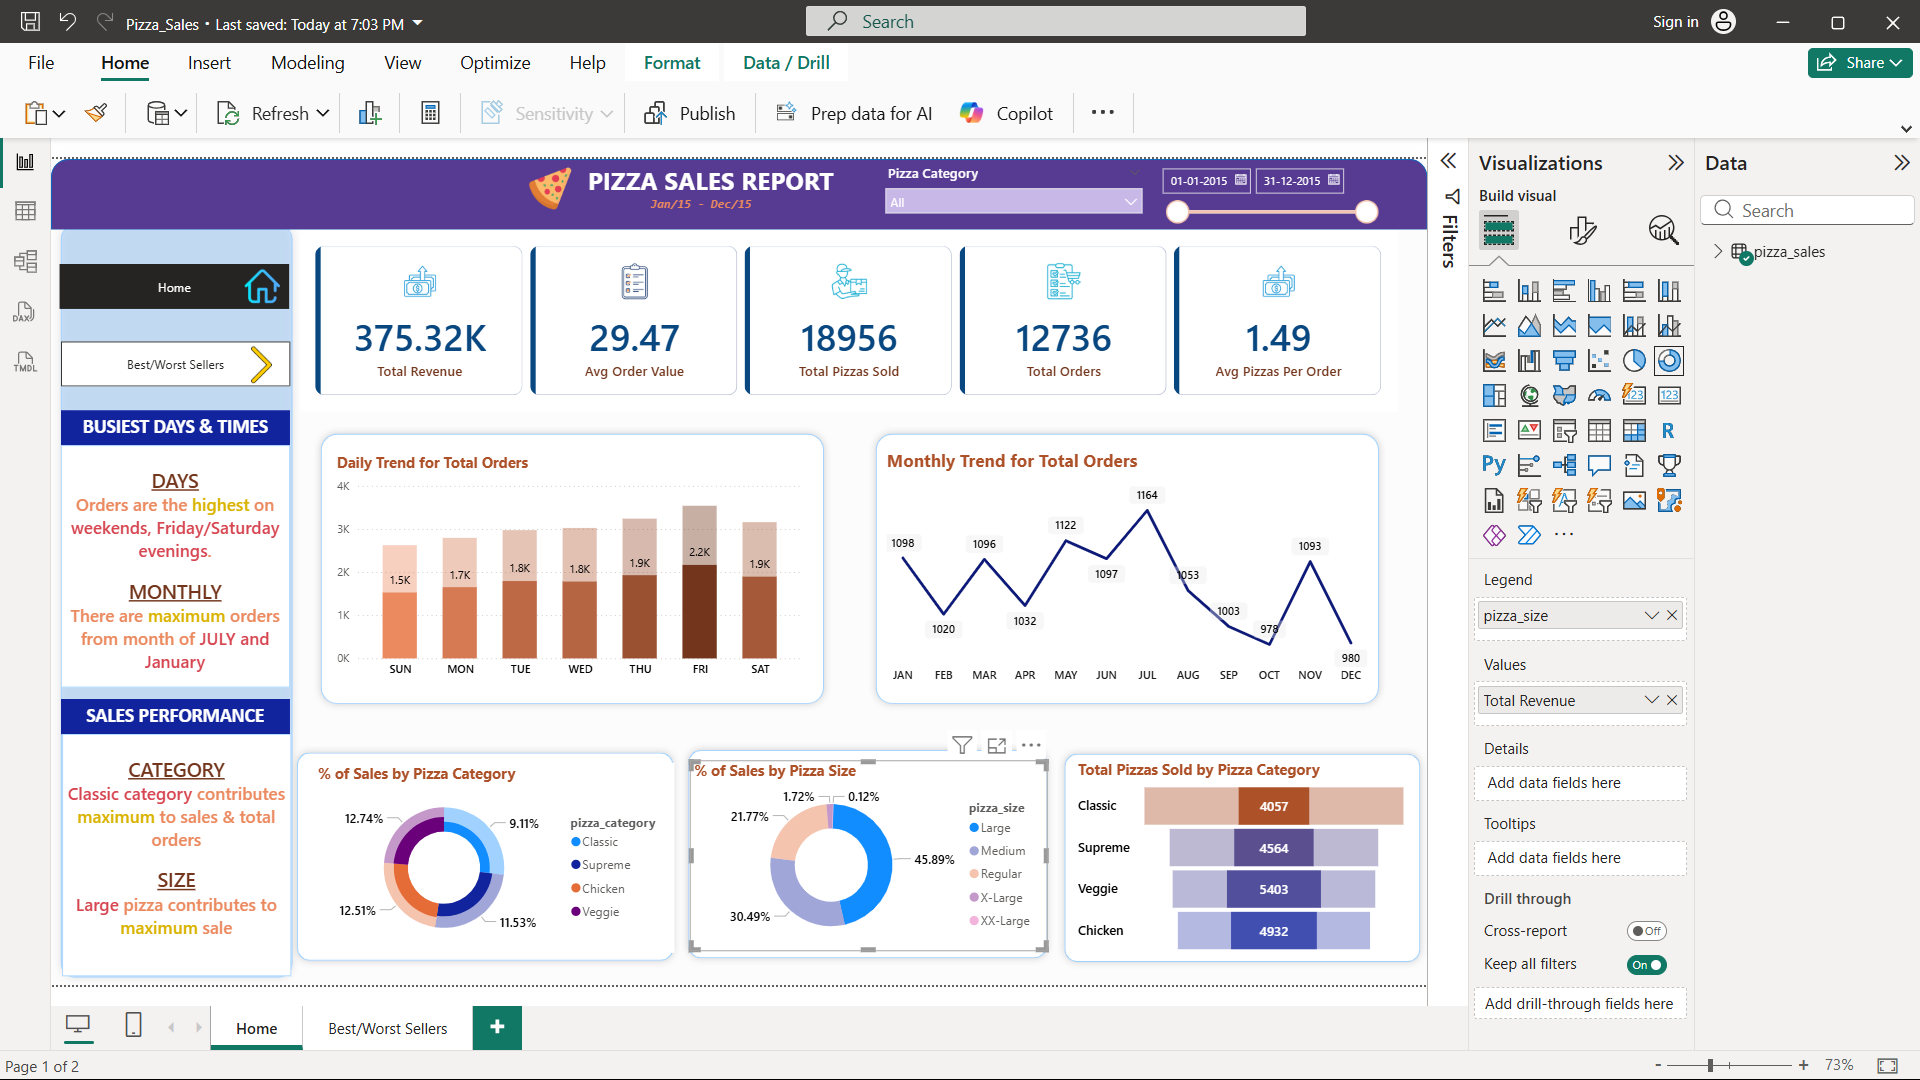

Layout of this report page (visuals, bound fields, positions):
{"tool":"powerbi","page":{"name":"Home","canvas":[1500,900],"ordinal":0},"visuals":[{"type":"shape","box":[3.2,64.3,268.5,836.2],"z":0},{"type":"textbox","box":[11.3,273.4,249.3,38.6],"z":1000},{"type":"cardVisual","fields":{"Data":["pizza_sales.Total Revenue","pizza_sales.Avg Order Value","pizza_sales.Total Pizzas Sold","pizza_sales.Total Orders","pizza_sales.Avg Pizzas Per Order"]},"box":[271.8,77.2,1196.4,197.8],"z":2000},{"type":"shape","box":[0,0,1500.3,77.2],"z":3000},{"type":"textbox","box":[580.5,0,289.5,45],"z":4000},{"type":"textbox","box":[648.1,33.8,152.8,30.6],"z":5000},{"type":"image","box":[490.5,8,107.7,48.2],"z":6000},{"type":"shape","box":[285.9,292,564.4,310.4],"z":7000},{"type":"columnChart","title":"Daily Trend for Total Orders","fields":{"Category":["pizza_sales.Order Day"],"Y":["pizza_sales.Total Orders"]},"box":[306.8,319.4,517.8,255.7],"z":8000},{"type":"shape","box":[890.5,292,564.4,310.4],"z":9000},{"type":"areaChart","title":"Monthly Trend for Total Orders","fields":{"Y":["pizza_sales.Total Orders"],"Category":["pizza_sales.Order Month"]},"box":[906.6,316.1,533.9,265.3],"z":10000},{"type":"shape","box":[260.5,638.4,426.1,242.8],"z":11000},{"type":"shape","box":[686.6,636.8,406.8,242.8],"z":12000},{"type":"shape","box":[1096.4,640,403.6,242.8],"z":13000},{"type":"donutChart","title":"% of Sales by Pizza Category","fields":{"Category":["pizza_sales.pizza_category"],"Y":["pizza_sales.Total Revenue"]},"box":[286.2,657.7,394,207.4],"z":14000},{"type":"donutChart","title":"% of Sales by Pizza Size","fields":{"Y":["pizza_sales.Total Revenue"],"Category":["pizza_sales.pizza_size"]},"box":[696.3,656.1,389.2,207.4],"z":15000},{"type":"funnel","title":"Total Pizzas Sold by Pizza Category","fields":{"Category":["pizza_sales.pizza_category"],"Y":["pizza_sales.Total Pizzas Sold"]},"box":[1114,654.5,369.9,217.1],"z":16000},{"type":"textbox","box":[11.3,312,249.3,263.7],"z":17000},{"type":"textbox","box":[11.3,588.6,249.3,38.6],"z":18000},{"type":"textbox","box":[12.9,627.1,249.3,263.7],"z":19000},{"type":"slicer","fields":{"Values":["pizza_sales.pizza_category"]},"box":[898.9,0,300.7,64.3],"z":20000},{"type":"slicer","fields":{"Values":["pizza_sales.order_date"]},"box":[1199.6,0,255.7,77.2],"z":21000},{"type":"pageNavigator","box":[9.6,114.2,250.9,49.9],"z":21001},{"type":"pageNavigator","box":[11.3,199.4,250.9,49.9],"z":21002},{"type":"image","box":[180.1,204.2,99.7,40.2],"z":21004},{"type":"image","box":[210.7,112.6,38.6,51.5],"z":21005}]}

Visuals, with their boxes on the page's 1500x900 design canvas (x1, y1, x2, y2). These are canvas units, not pixel positions in the 1920x1080 screenshot, which may show the page scaled, cropped or inside an application window:
shape: BBox(3, 64, 272, 900)
textbox: BBox(11, 273, 261, 312)
cardVisual - pizza_sales.Total Revenue x pizza_sales.Avg Order Value: BBox(272, 77, 1468, 275)
shape: BBox(0, 0, 1500, 77)
textbox: BBox(580, 0, 870, 45)
textbox: BBox(648, 34, 801, 64)
image: BBox(490, 8, 598, 56)
shape: BBox(286, 292, 850, 602)
"Daily Trend for Total Orders" columnChart: BBox(307, 319, 825, 575)
shape: BBox(890, 292, 1455, 602)
"Monthly Trend for Total Orders" areaChart: BBox(907, 316, 1440, 581)
shape: BBox(260, 638, 687, 881)
shape: BBox(687, 637, 1093, 880)
shape: BBox(1096, 640, 1500, 883)
"% of Sales by Pizza Category" donutChart: BBox(286, 658, 680, 865)
"% of Sales by Pizza Size" donutChart: BBox(696, 656, 1086, 864)
"Total Pizzas Sold by Pizza Category" funnel: BBox(1114, 654, 1484, 872)
textbox: BBox(11, 312, 261, 576)
textbox: BBox(11, 589, 261, 627)
textbox: BBox(13, 627, 262, 891)
slicer - pizza_sales.pizza_category: BBox(899, 0, 1200, 64)
slicer - pizza_sales.order_date: BBox(1200, 0, 1455, 77)
pageNavigator: BBox(10, 114, 260, 164)
pageNavigator: BBox(11, 199, 262, 249)
image: BBox(180, 204, 280, 244)
image: BBox(211, 113, 249, 164)
